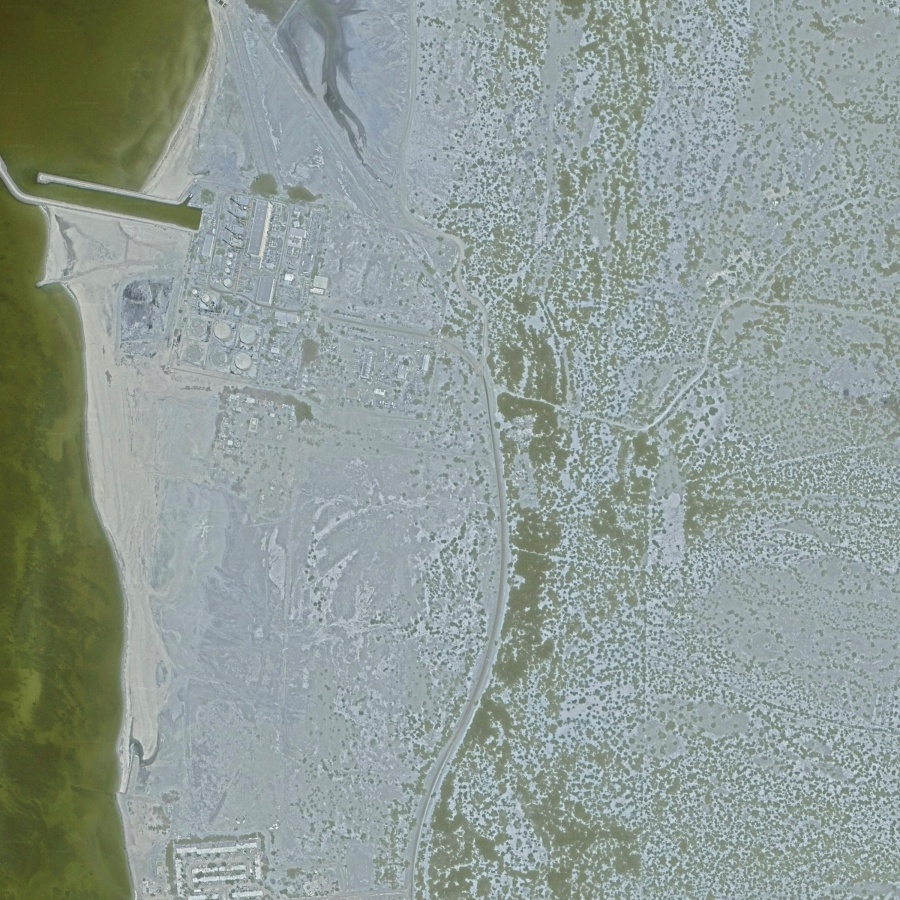PowerPlant: (109, 185, 337, 388)
